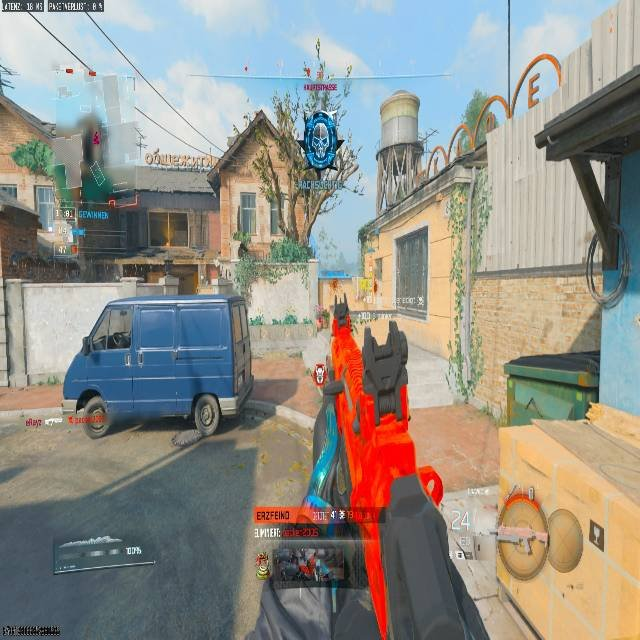player: (314, 362, 326, 385)
